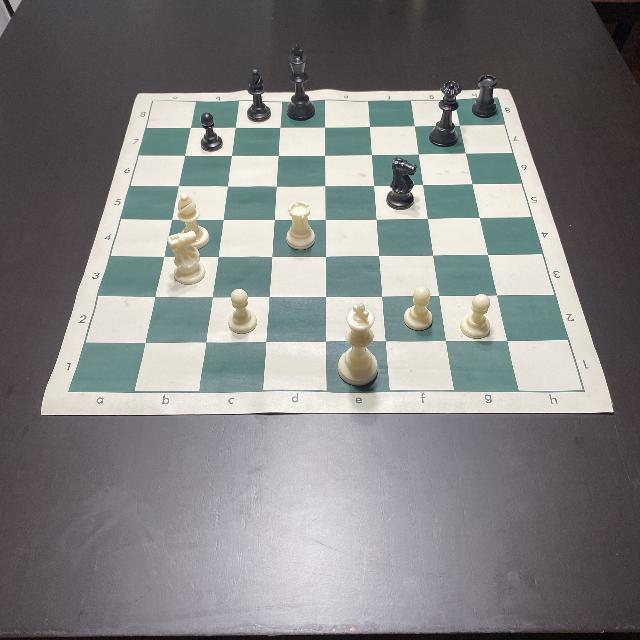black-bishop: (248, 68, 272, 124)
black-king: (287, 43, 315, 119)
black-knight: (386, 157, 416, 210)
black-pawn: (200, 112, 223, 152)
black-queen: (431, 80, 462, 148)
black-rook: (474, 75, 498, 118)
board: (41, 89, 615, 414)
white-bishop: (178, 192, 208, 248)
white-king: (338, 303, 378, 387)
white-knight: (168, 231, 206, 285)
white-pawn: (461, 295, 492, 339), (229, 288, 257, 334), (403, 286, 432, 330)
white-rook: (286, 200, 316, 250)
